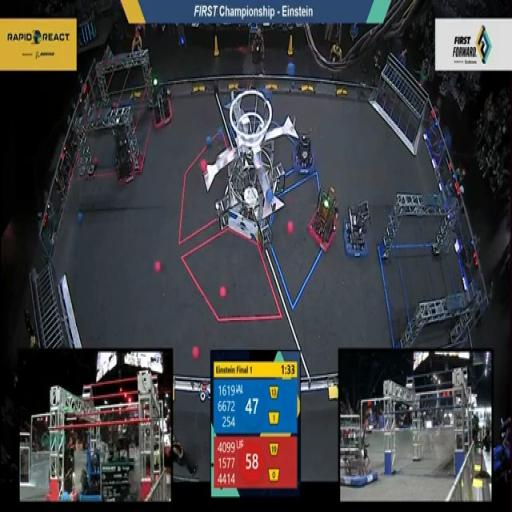robot: (307, 182, 340, 255), (342, 194, 371, 261), (149, 68, 176, 134), (113, 123, 138, 194), (290, 126, 318, 180)
